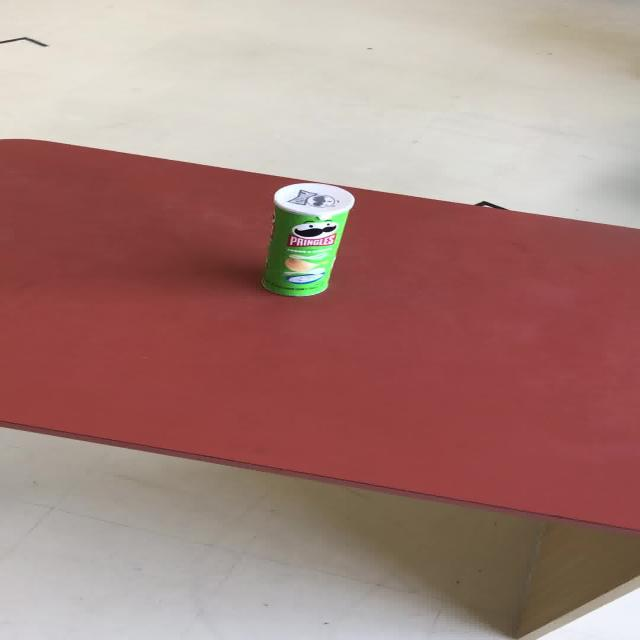pringles: (259, 181, 355, 297)
